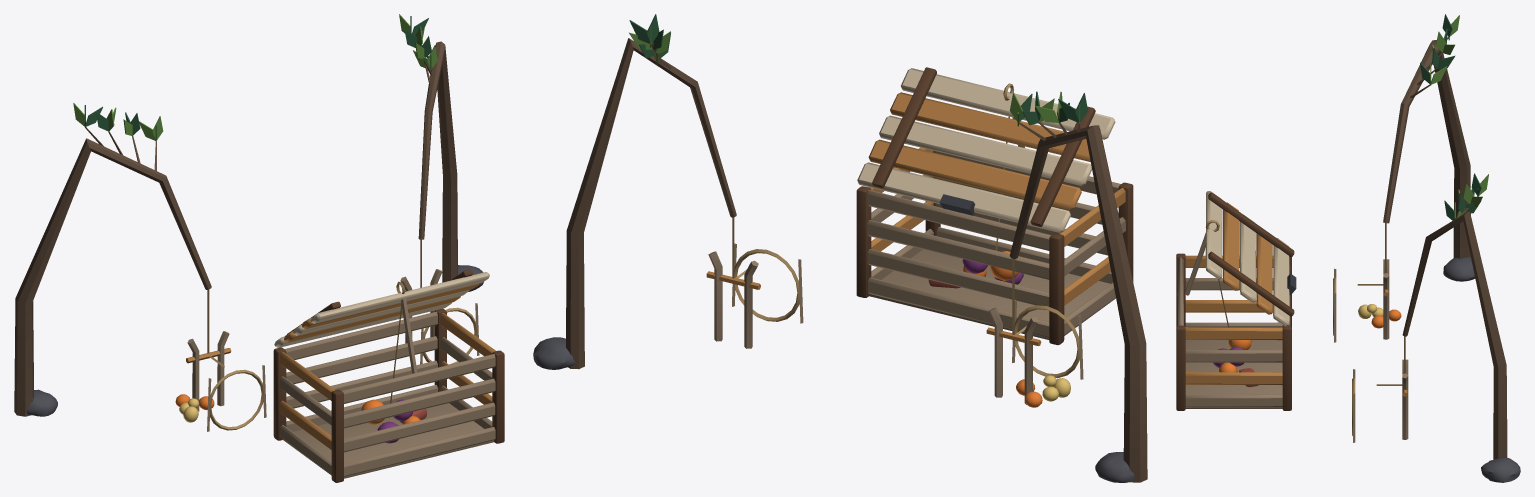
The model's file is deco_snares.fbx.
3 renders of one model, left to right at view 1: azimuth 30°, elevation 25°; view 2: azimuth 150°, elevation 25°; view 3: azimuth 270°, elevation 25°, orthographic. The views are drawn at different scales.
Parts seen in each view (by area): view 1: Snares_BoxTrap, Snares_Poles, Snares_Lid, Snares_Bait, Snares_Loops; view 2: Snares_BoxTrap, Snares_Poles, Snares_Lid, Snares_Loops, Snares_Bait; view 3: Snares_Poles, Snares_BoxTrap, Snares_Lid, Snares_Bait, Snares_Loops.
Part boxes in pixels (x1=…): Snares_BoxTrap: x1=273, y1=308, x2=504, y2=482; Snares_Poles: x1=14, y1=14, x2=483, y2=416; Snares_Lid: x1=274, y1=269, x2=489, y2=347; Snares_Bait: x1=175, y1=298, x2=426, y2=443; Snares_Loops: x1=207, y1=239, x2=479, y2=431; Snares_BoxTrap: x1=856, y1=147, x2=1133, y2=345; Snares_Poles: x1=533, y1=14, x2=1147, y2=482; Snares_Lid: x1=857, y1=67, x2=1115, y2=232; Snares_Loops: x1=732, y1=217, x2=1083, y2=379; Snares_Bait: x1=928, y1=116, x2=1070, y2=407; Snares_Poles: x1=1383, y1=14, x2=1520, y2=482; Snares_BoxTrap: x1=1176, y1=253, x2=1291, y2=410; Snares_Lid: x1=1205, y1=191, x2=1296, y2=326; Snares_Bait: x1=1184, y1=233, x2=1401, y2=387; Snares_Loops: x1=1333, y1=223, x2=1405, y2=442.
Size of the model in its own units: 273 by 162 by 181.
